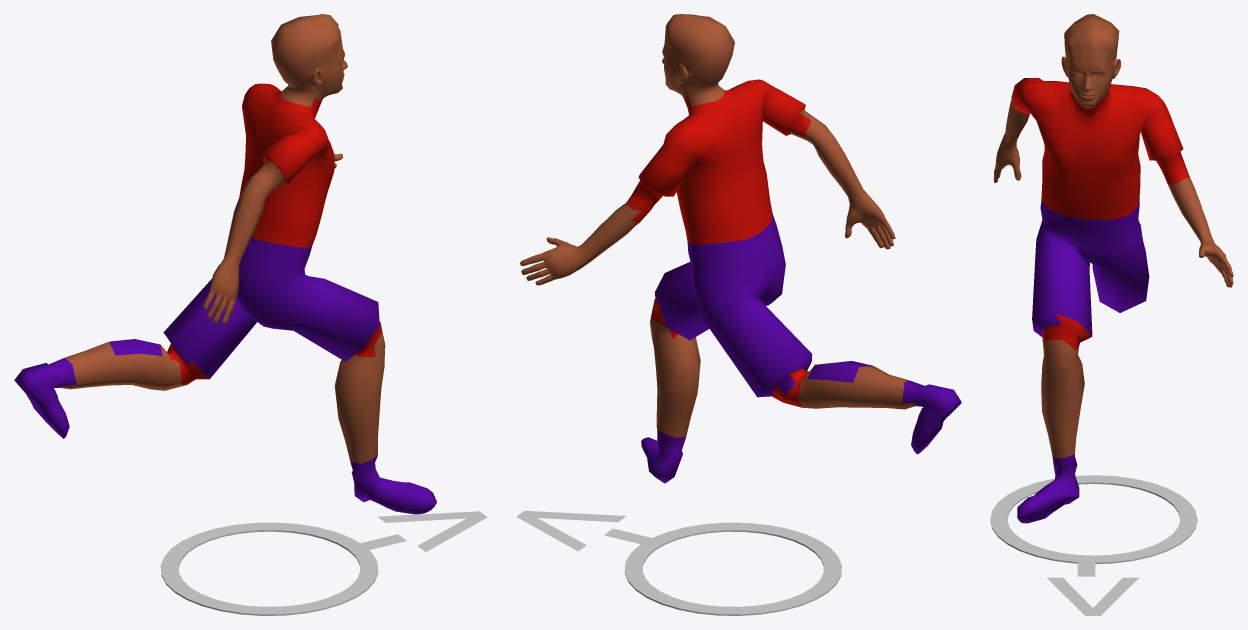
The model's file is player_000015.obj.
3 renders of one model, left to right at view 1: azimuth 30°, elevation 25°; view 2: azimuth 150°, elevation 25°; view 3: azimuth 270°, elevation 25°, orthographic. The views are drawn at different scales.
Parts seen in each view (by area): view 1: soccerplayer.002_mesh.003, Circle, Text.001_Mesh.001; view 2: soccerplayer.002_mesh.003, Circle, Text.001_Mesh.001; view 3: soccerplayer.002_mesh.003, Circle, Text.001_Mesh.001.
Boxes of the visible parts, bbox=[...] form: soccerplayer.002_mesh.003: bbox=[14, 14, 436, 514]; Circle: bbox=[160, 522, 378, 615]; Text.001_Mesh.001: bbox=[356, 511, 487, 551]; soccerplayer.002_mesh.003: bbox=[520, 14, 961, 483]; Circle: bbox=[624, 522, 841, 615]; Text.001_Mesh.001: bbox=[516, 510, 654, 551]; soccerplayer.002_mesh.003: bbox=[993, 14, 1233, 523]; Circle: bbox=[990, 475, 1197, 564]; Text.001_Mesh.001: bbox=[1047, 557, 1138, 615].
Size of the model in its own units: 2.59 by 2.99 by 1.28.
